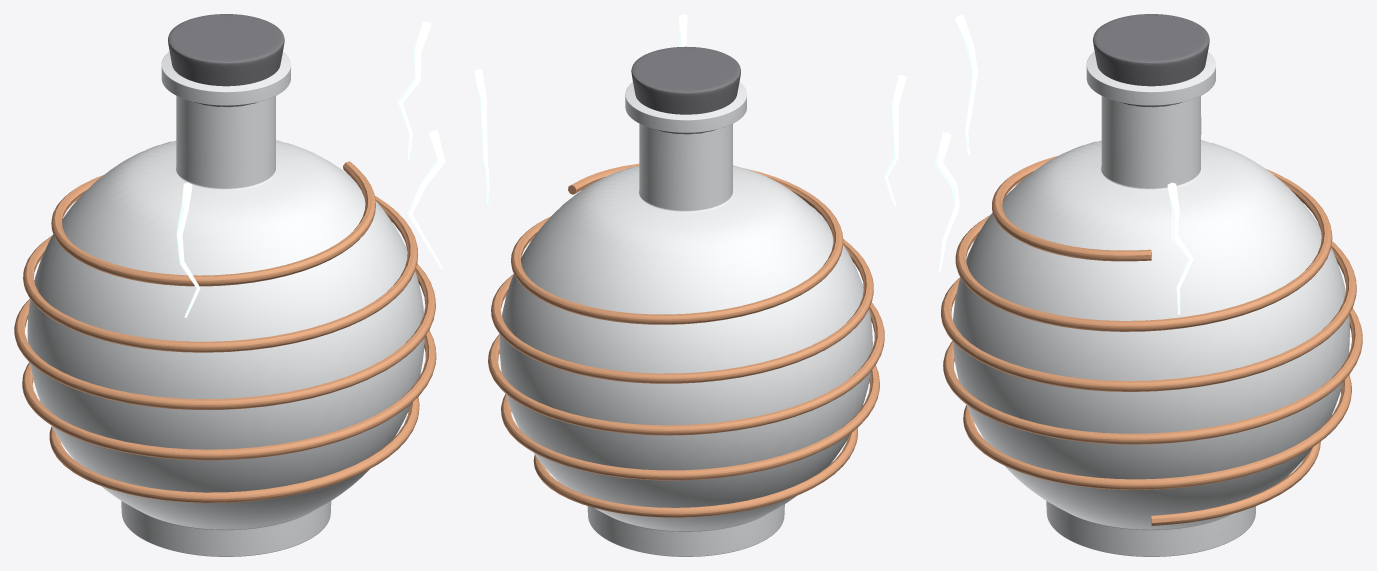
The model's file is thunderbrew.glb.
3 views of the same model, side by side, from view 1: azimuth 30°, elevation 25°; view 2: azimuth 150°, elevation 25°; view 3: azimuth 270°, elevation 25° (orthographic). The views are drawn at different scales.
Parts seen in each view (by area): view 1: ThunderBrew_Glass, ThunderBrew_CopperCoil, ThunderBrew_Cork, ThunderBrew_AirBolt.001, ThunderBrew_AirBolt.002, ThunderBrew_AirBolt; view 2: ThunderBrew_Glass, ThunderBrew_CopperCoil, ThunderBrew_Cork, ThunderBrew_AirBolt.002, ThunderBrew_AirBolt; view 3: ThunderBrew_Glass, ThunderBrew_CopperCoil, ThunderBrew_Cork, ThunderBrew_AirBolt.001, ThunderBrew_AirBolt, ThunderBrew_AirBolt.002.
Boxes of the visible parts, x1=… form: ThunderBrew_Glass: x1=27, y1=52, x2=424, y2=556; ThunderBrew_CopperCoil: x1=14, y1=161, x2=436, y2=502; ThunderBrew_Cork: x1=168, y1=14, x2=284, y2=107; ThunderBrew_AirBolt.001: x1=407, y1=130, x2=445, y2=269; ThunderBrew_AirBolt.002: x1=397, y1=21, x2=431, y2=160; ThunderBrew_AirBolt: x1=176, y1=182, x2=200, y2=317; ThunderBrew_Glass: x1=499, y1=82, x2=872, y2=556; ThunderBrew_CopperCoil: x1=488, y1=163, x2=884, y2=517; ThunderBrew_Cork: x1=631, y1=46, x2=740, y2=134; ThunderBrew_AirBolt.002: x1=474, y1=69, x2=489, y2=203; ThunderBrew_AirBolt: x1=884, y1=74, x2=906, y2=206; ThunderBrew_Glass: x1=953, y1=52, x2=1349, y2=556; ThunderBrew_CopperCoil: x1=941, y1=156, x2=1362, y2=525; ThunderBrew_Cork: x1=1093, y1=14, x2=1209, y2=107; ThunderBrew_AirBolt.001: x1=935, y1=132, x2=959, y2=272; ThunderBrew_AirBolt: x1=955, y1=15, x2=977, y2=154; ThunderBrew_AirBolt.002: x1=1167, y1=182, x2=1193, y2=314.
Bounding box in the file's own units: 1.84 × 2.1 × 1.71.
